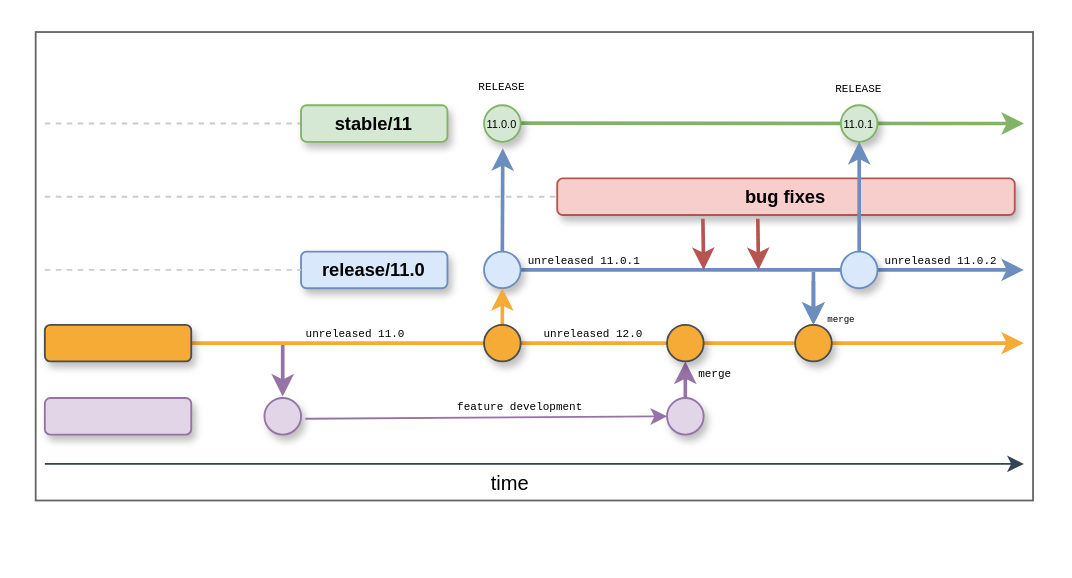
Some shapes in this 1072 by 578 pixel diagram are drawn without their labels. The centre of each missing label's shape, as x and y in pixels:
dev: (119,345)
feature branches: (119,418)
